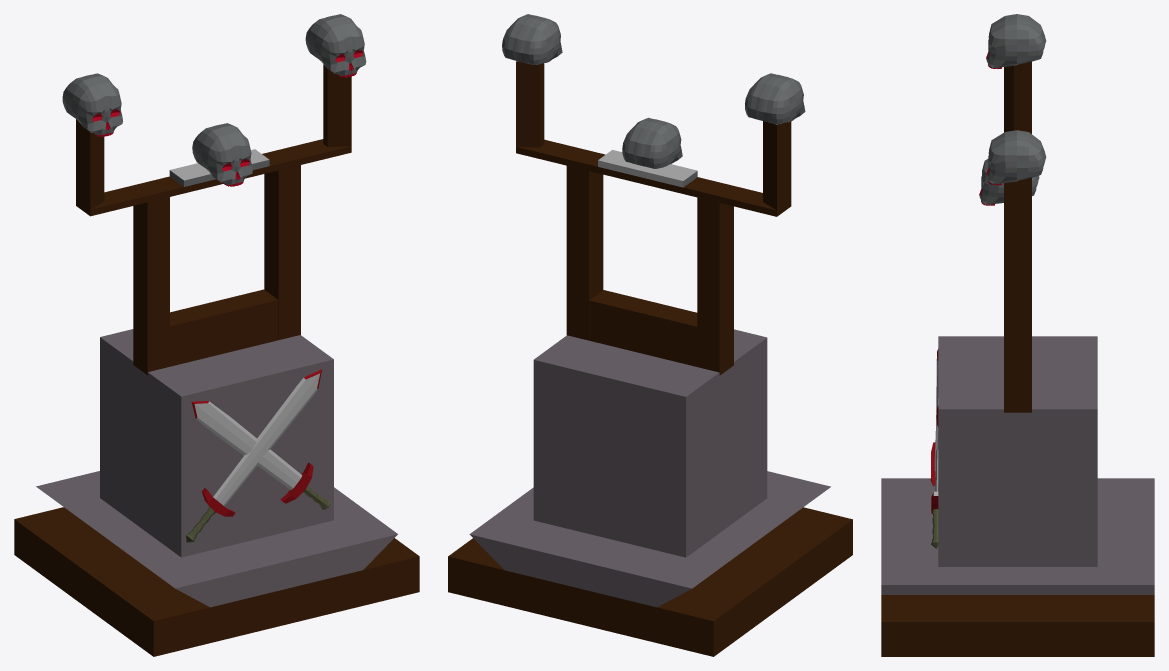
The model's file is Totem1.fbx.
3 views of the same model, side by side, from view 1: azimuth 30°, elevation 25°; view 2: azimuth 150°, elevation 25°; view 3: azimuth 270°, elevation 25° (orthographic). The views are drawn at different scales.
Visible parts, largest first — view 1: Cube.022; view 2: Cube.022; view 3: Cube.022.
Part boxes in pixels (x1,y1,x2,y2): Cube.022: [14, 14, 419, 656]; Cube.022: [448, 14, 852, 656]; Cube.022: [881, 14, 1154, 656].
Size of the model in its own units: 131 by 230 by 110.
